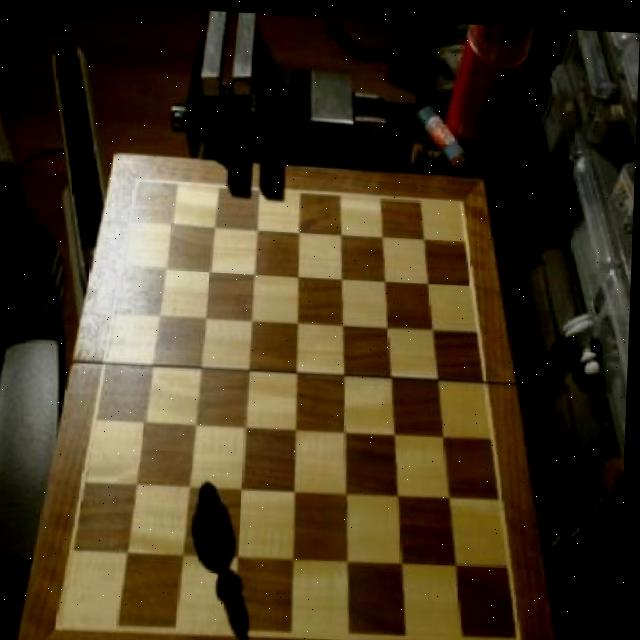bishop: (198, 481, 239, 568)
